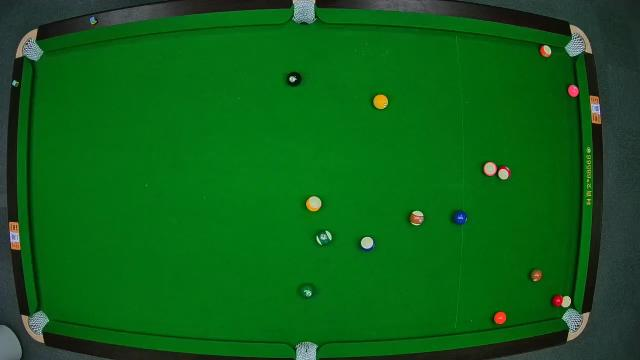bag1: (19, 38, 45, 62)
bag2: (291, 0, 317, 26)
bag3: (566, 29, 588, 57)
bag4: (22, 309, 50, 341)
bag5: (294, 340, 320, 360)
bag6: (563, 308, 585, 332)
ball0: (561, 295, 573, 309)
ball1: (374, 93, 388, 109)
ball10: (358, 234, 376, 252)
ball11: (497, 167, 511, 181)
ball12: (482, 162, 498, 176)
ball13: (538, 44, 552, 60)
ball14: (316, 230, 332, 248)
ball15: (409, 209, 425, 227)
ball2: (452, 209, 468, 224)
ball3: (550, 294, 564, 308)
ball4: (566, 83, 580, 99)
ball5: (494, 310, 508, 324)
ball6: (298, 283, 314, 299)
ball7: (531, 267, 543, 282)
ball8: (286, 71, 302, 87)
ball9: (306, 195, 322, 212)
